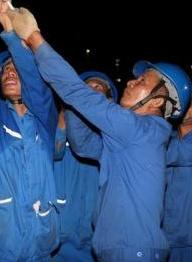gloves: (5, 5, 40, 41), (0, 174, 15, 207)
hard-hat: (79, 71, 118, 103)
ppe-suit: (0, 3, 61, 261)
